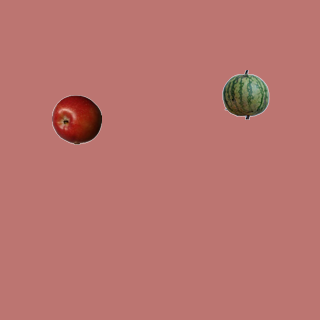Apple Braeburn: (51, 94, 101, 144)
Watermelon: (220, 69, 270, 119)
